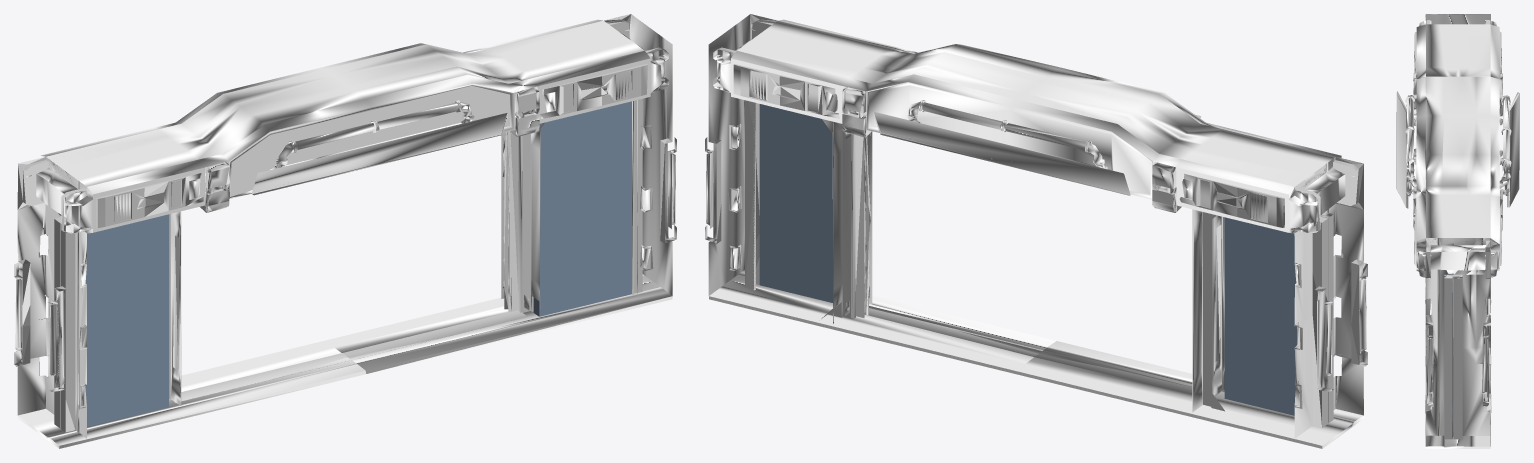
The model's file is exterior_building_arccorp_customs_facade_doorframe_01.glb.
The picture shows the model from 3 angles, left to right: view 1: azimuth 30°, elevation 25°; view 2: azimuth 150°, elevation 25°; view 3: azimuth 270°, elevation 25°; orthographic projection. The views are drawn at different scales.
Size of the model in its own units: 12.67 by 5.31 by 2.75.
